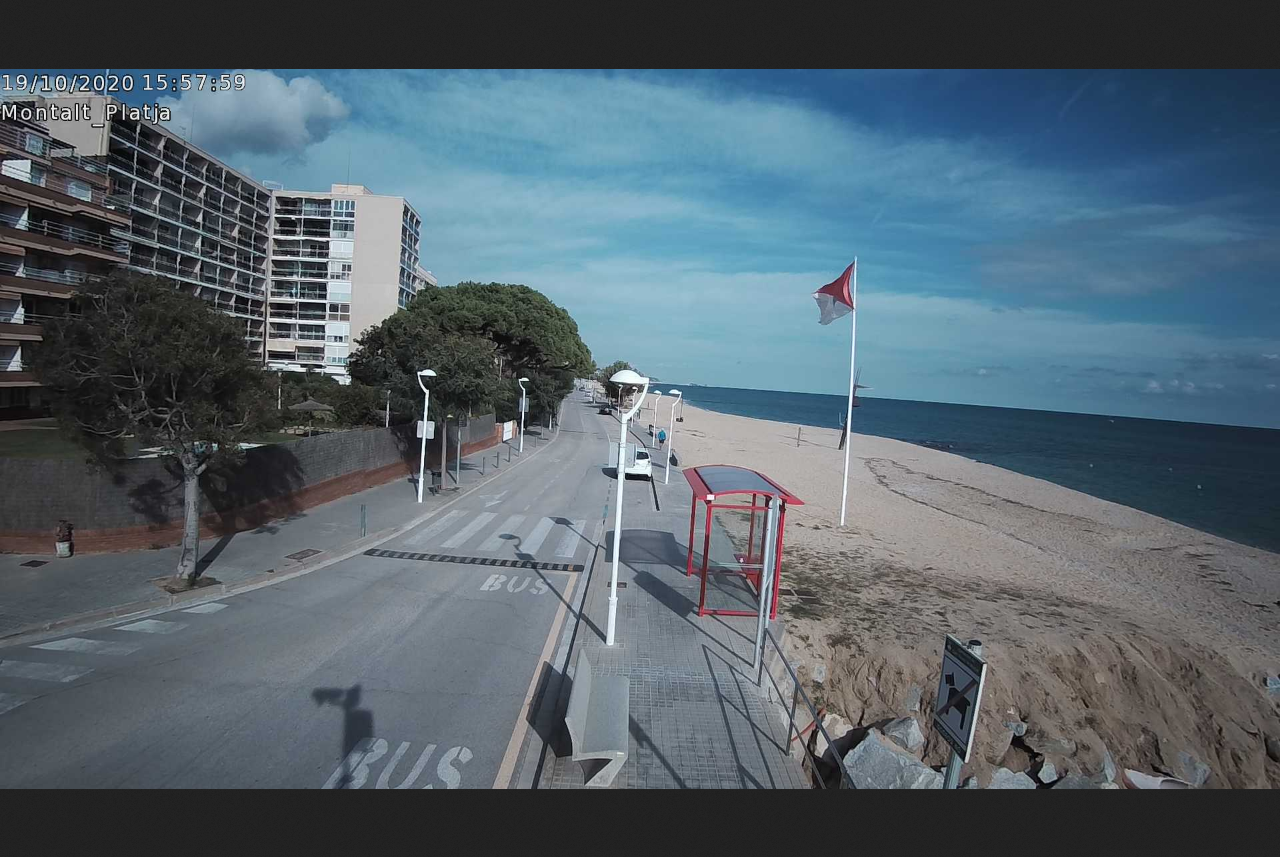maybe: (811, 260, 855, 328)
